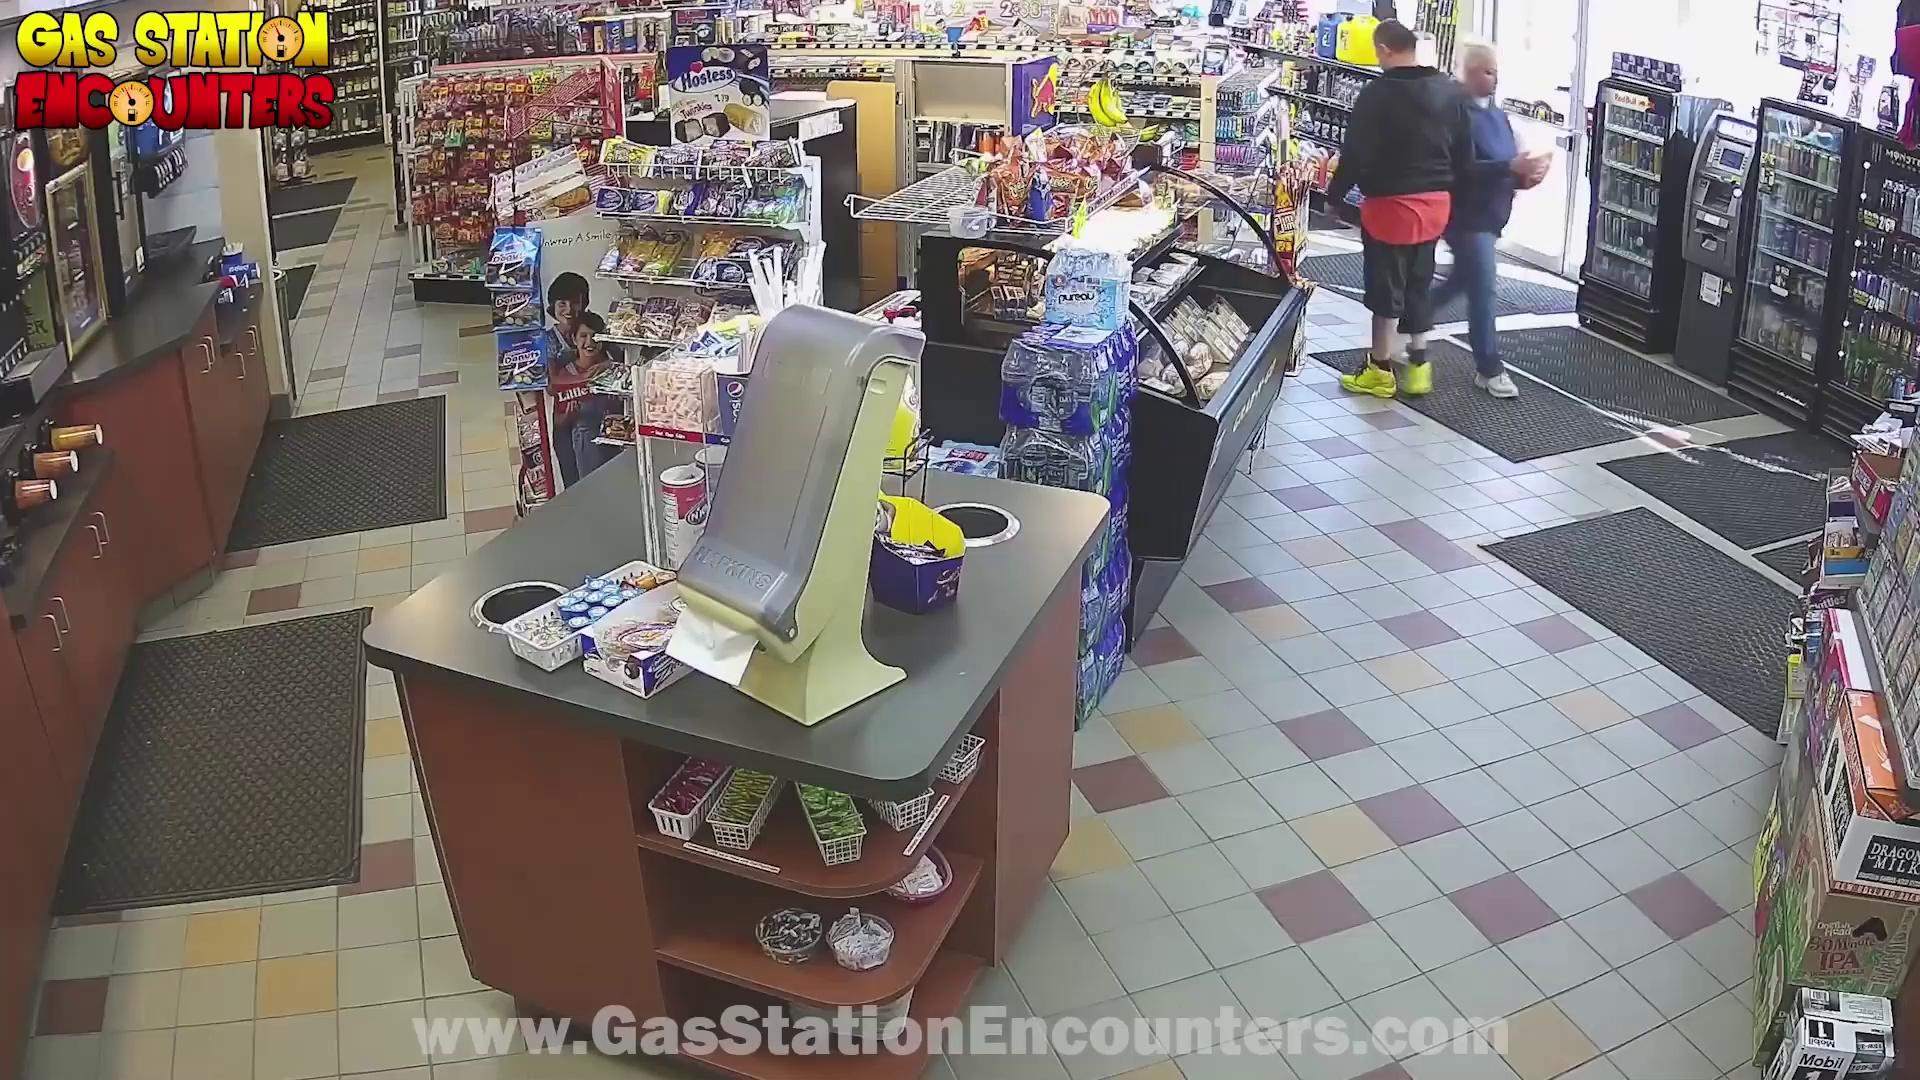Product: (1499, 132, 1561, 199)
Product-Picked: (1468, 36, 1621, 400)
Regular: (1312, 12, 1465, 444)
